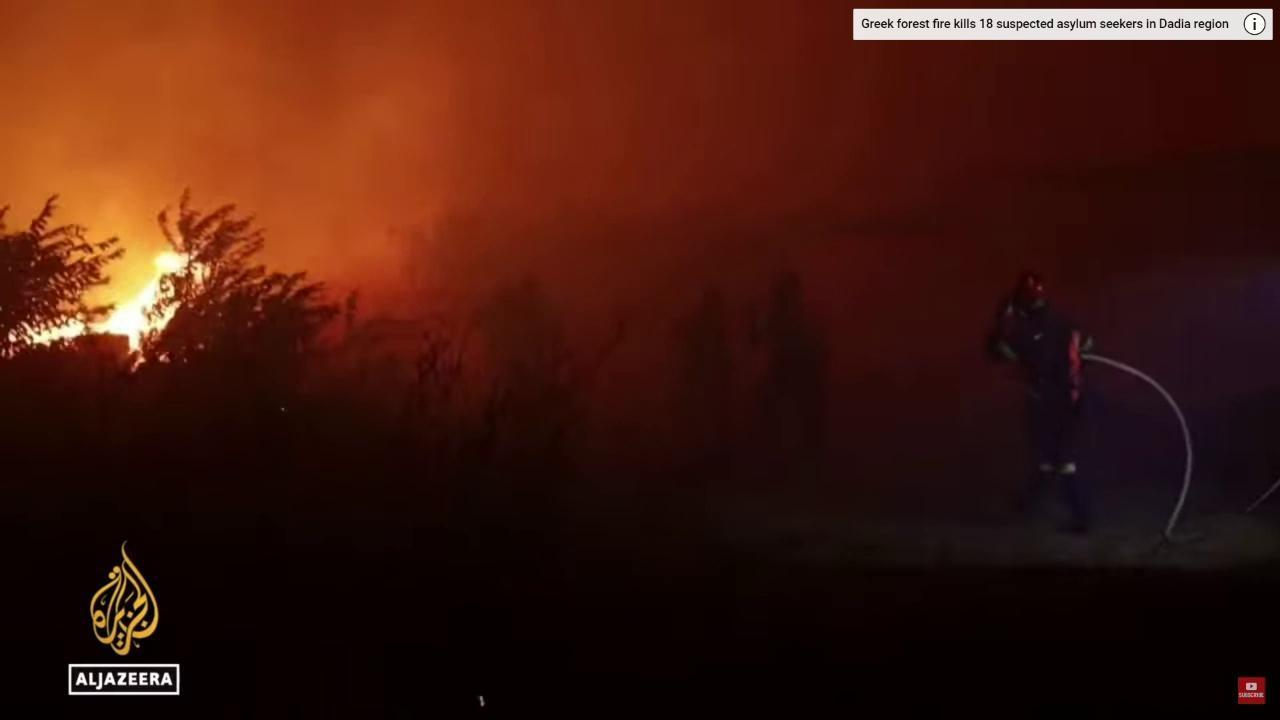fire: (3, 246, 226, 372)
smoke: (0, 0, 1280, 523)
